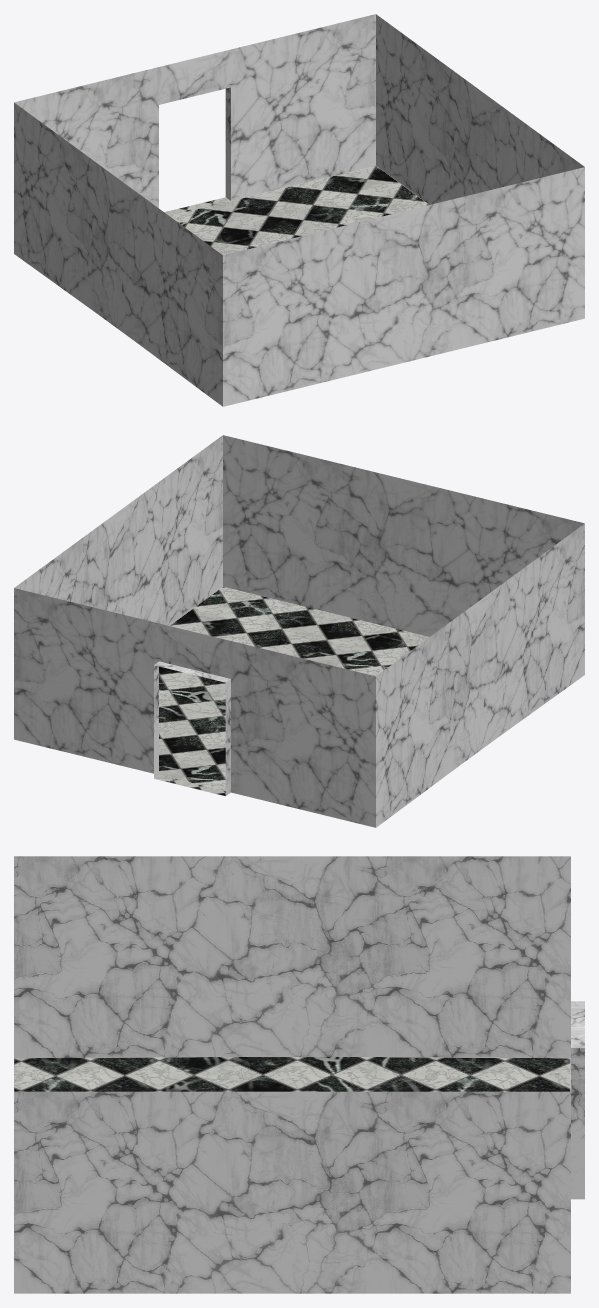
The model's file is room1.fbx.
3 renders of one model, top to bottom at view 1: azimuth 30°, elevation 25°; view 2: azimuth 150°, elevation 25°; view 3: azimuth 270°, elevation 25°, orthographic. The views are drawn at different scales.
Visible parts, largest first — view 1: Room1; view 2: Room1; view 3: Room1.
Boxes of the visible parts, bbox=[...] form: Room1: bbox=[14, 14, 584, 406]; Room1: bbox=[14, 435, 584, 827]; Room1: bbox=[14, 856, 584, 1293].
Size of the model in its own units: 610 by 244 by 625.
